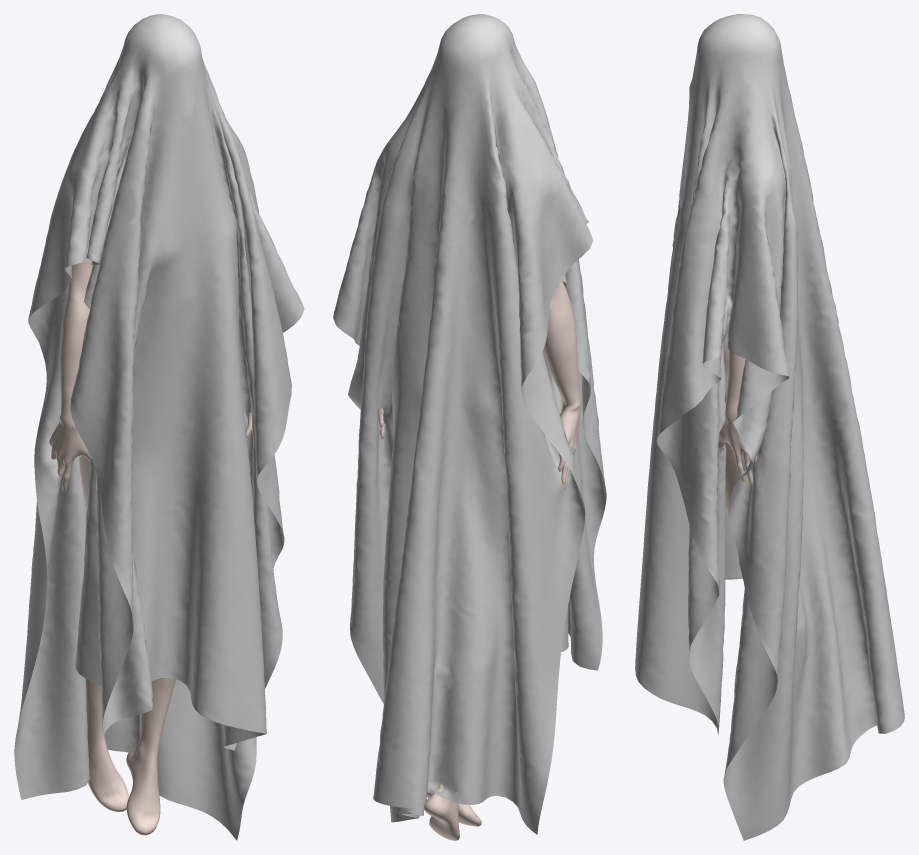
File: ghost.glb
3 views of the same model, side by side, from view 1: azimuth 30°, elevation 25°; view 2: azimuth 150°, elevation 25°; view 3: azimuth 270°, elevation 25° (orthographic). The views are drawn at different scales.
Parts seen in each view (by area): view 1: ee_obj_1; view 2: ee_obj_1; view 3: ee_obj_1.
Part boxes in pixels (x1,y1,x2,y2): ee_obj_1: (14,14,304,840); ee_obj_1: (333,14,606,840); ee_obj_1: (635,14,904,840).
Size of the model in its own units: 0.5732 by 1.88 by 0.5834.
